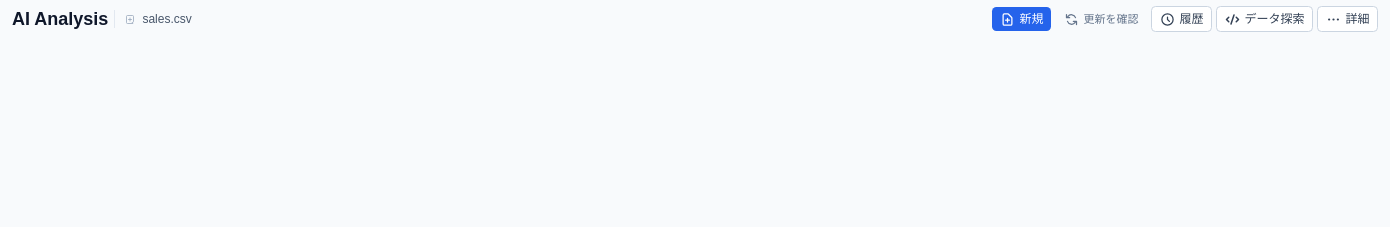
end user mode UI surfaces › localizes all primary and advanced header actions in Japanese
This screenshot has width=1390, height=227.
Expected: the button "新規" is shown, [992,7,1051,31]
Expected: the button "履歴" is shown, [1152,6,1212,32]
Click the button "詳細".
click(1348, 19)  # box [1318,6,1378,32]
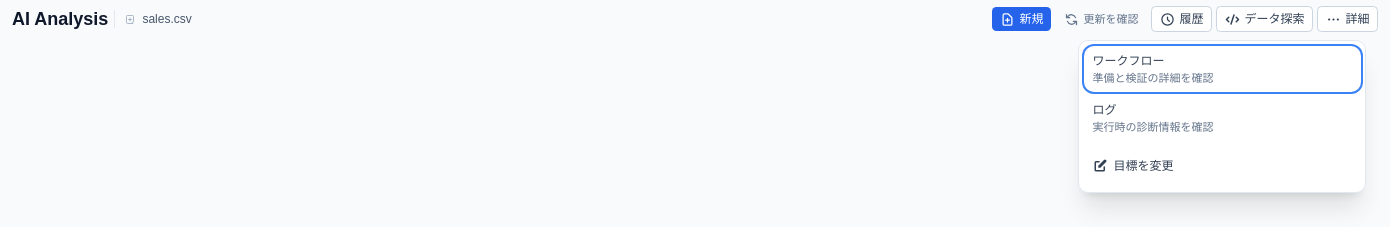
Now the menu item "ワークフロー 準備と検証の詳細を確認" is shown, box [1084,46,1360,92]
Now the menu item "ログ 実行時の診断情報を確認" is shown, box [1084,94,1360,140]
Now the menu item "目標を変更" is shown, box [1084,144,1360,188]
